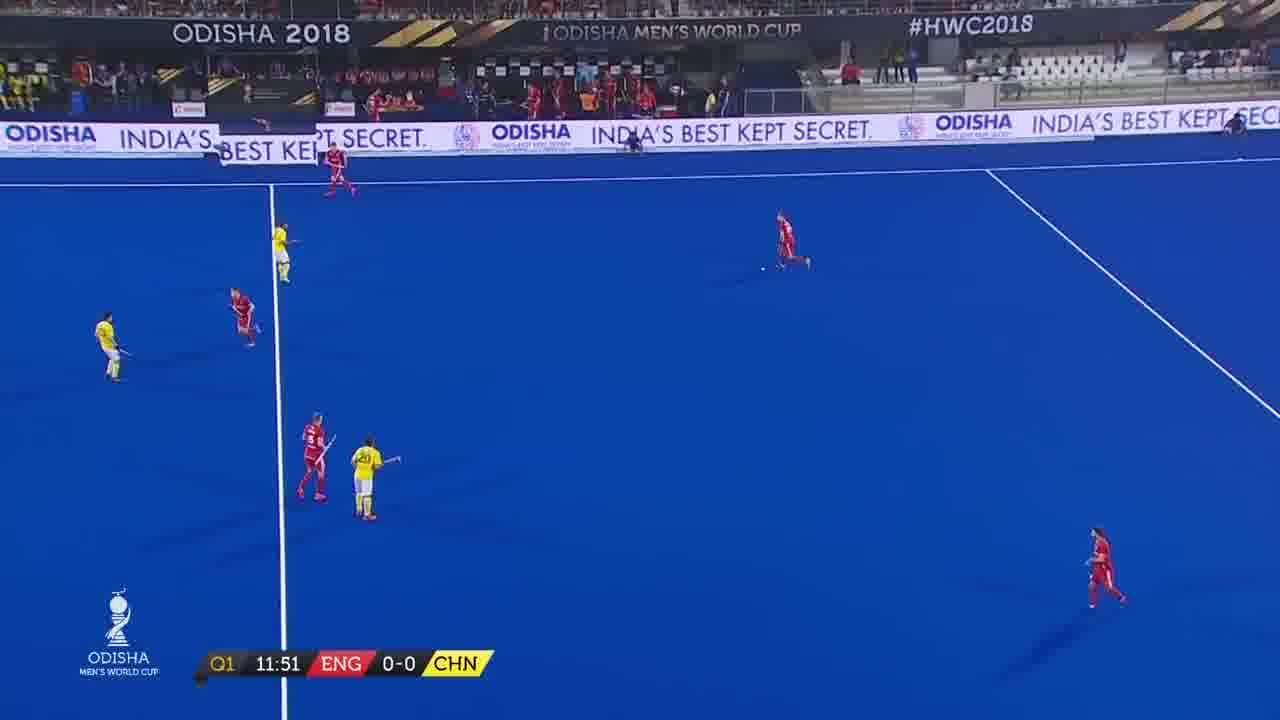ball: (762, 262, 772, 276)
